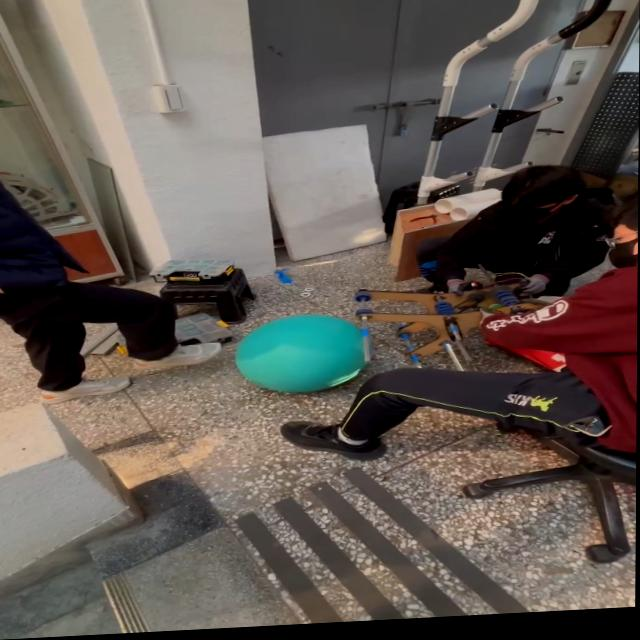ALGAE: (232, 310, 371, 397)
